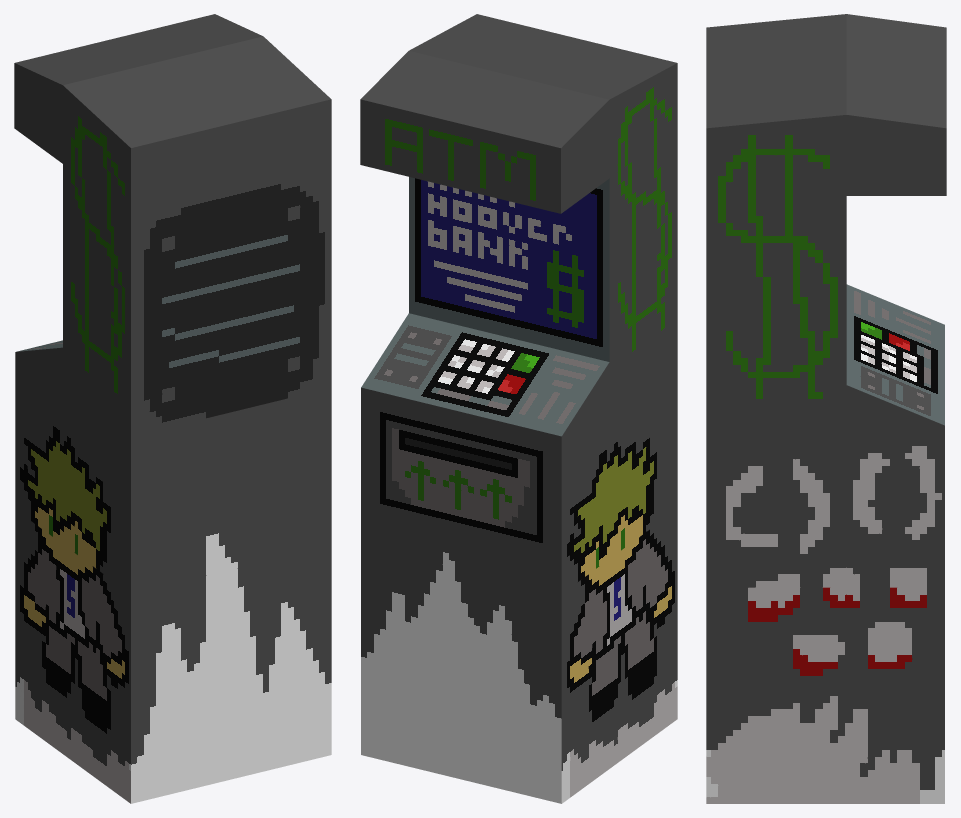
File: ATM-Machine.gltf
3 views of the same model, side by side, from view 1: azimuth 30°, elevation 25°; view 2: azimuth 150°, elevation 25°; view 3: azimuth 270°, elevation 25° (orthographic). The views are drawn at different scales.
Parts seen in each view (by area): view 1: ATMMachineBody; view 2: ATMMachineBody; view 3: ATMMachineBody.
Part boxes in pixels (x1,y1,x2,y2): ATMMachineBody: [14, 14, 331, 803]; ATMMachineBody: [360, 14, 677, 803]; ATMMachineBody: [706, 14, 946, 803].
Bounding box in the file's own units: 1 × 3.19 × 1.01.
Materials: 1 (1 with a texture image).
